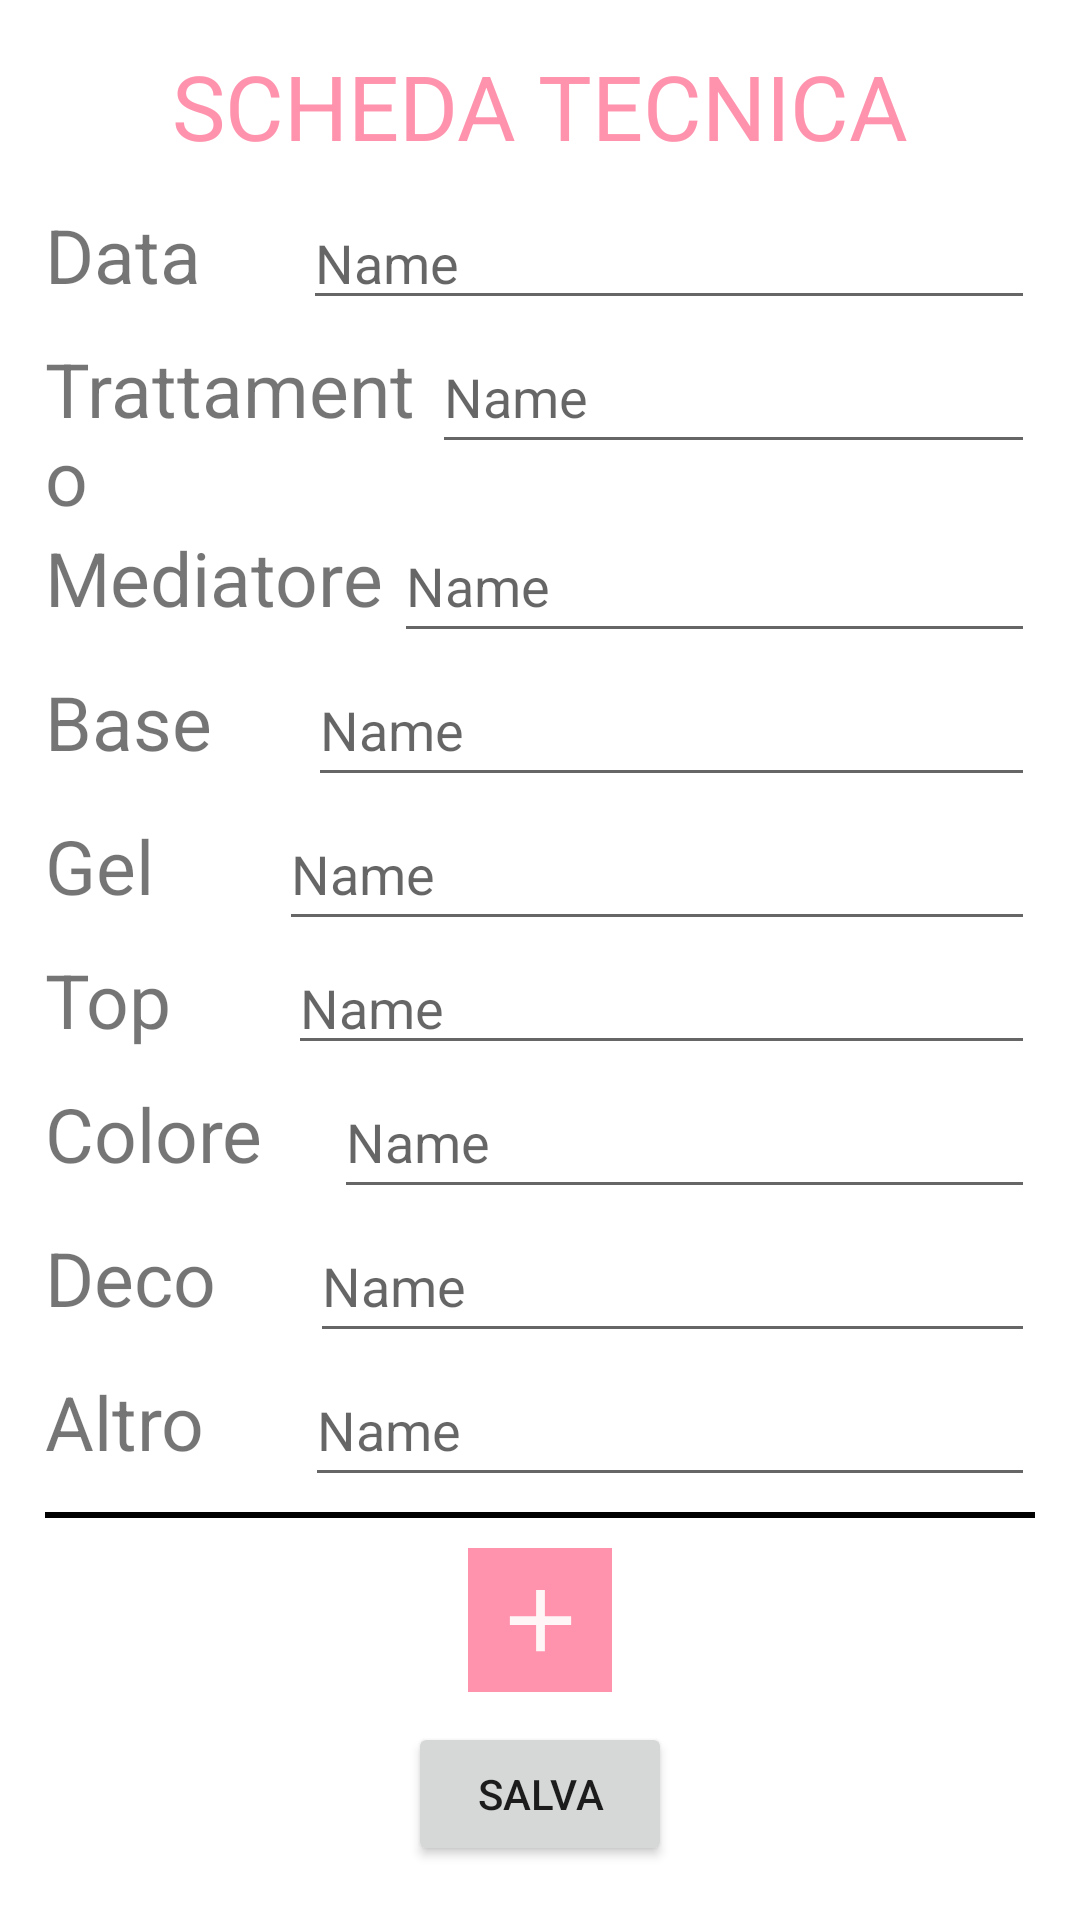

Icons on this 1080x1920 Android screen, each with the point to tap as (x,y):
add: (540,1620)
